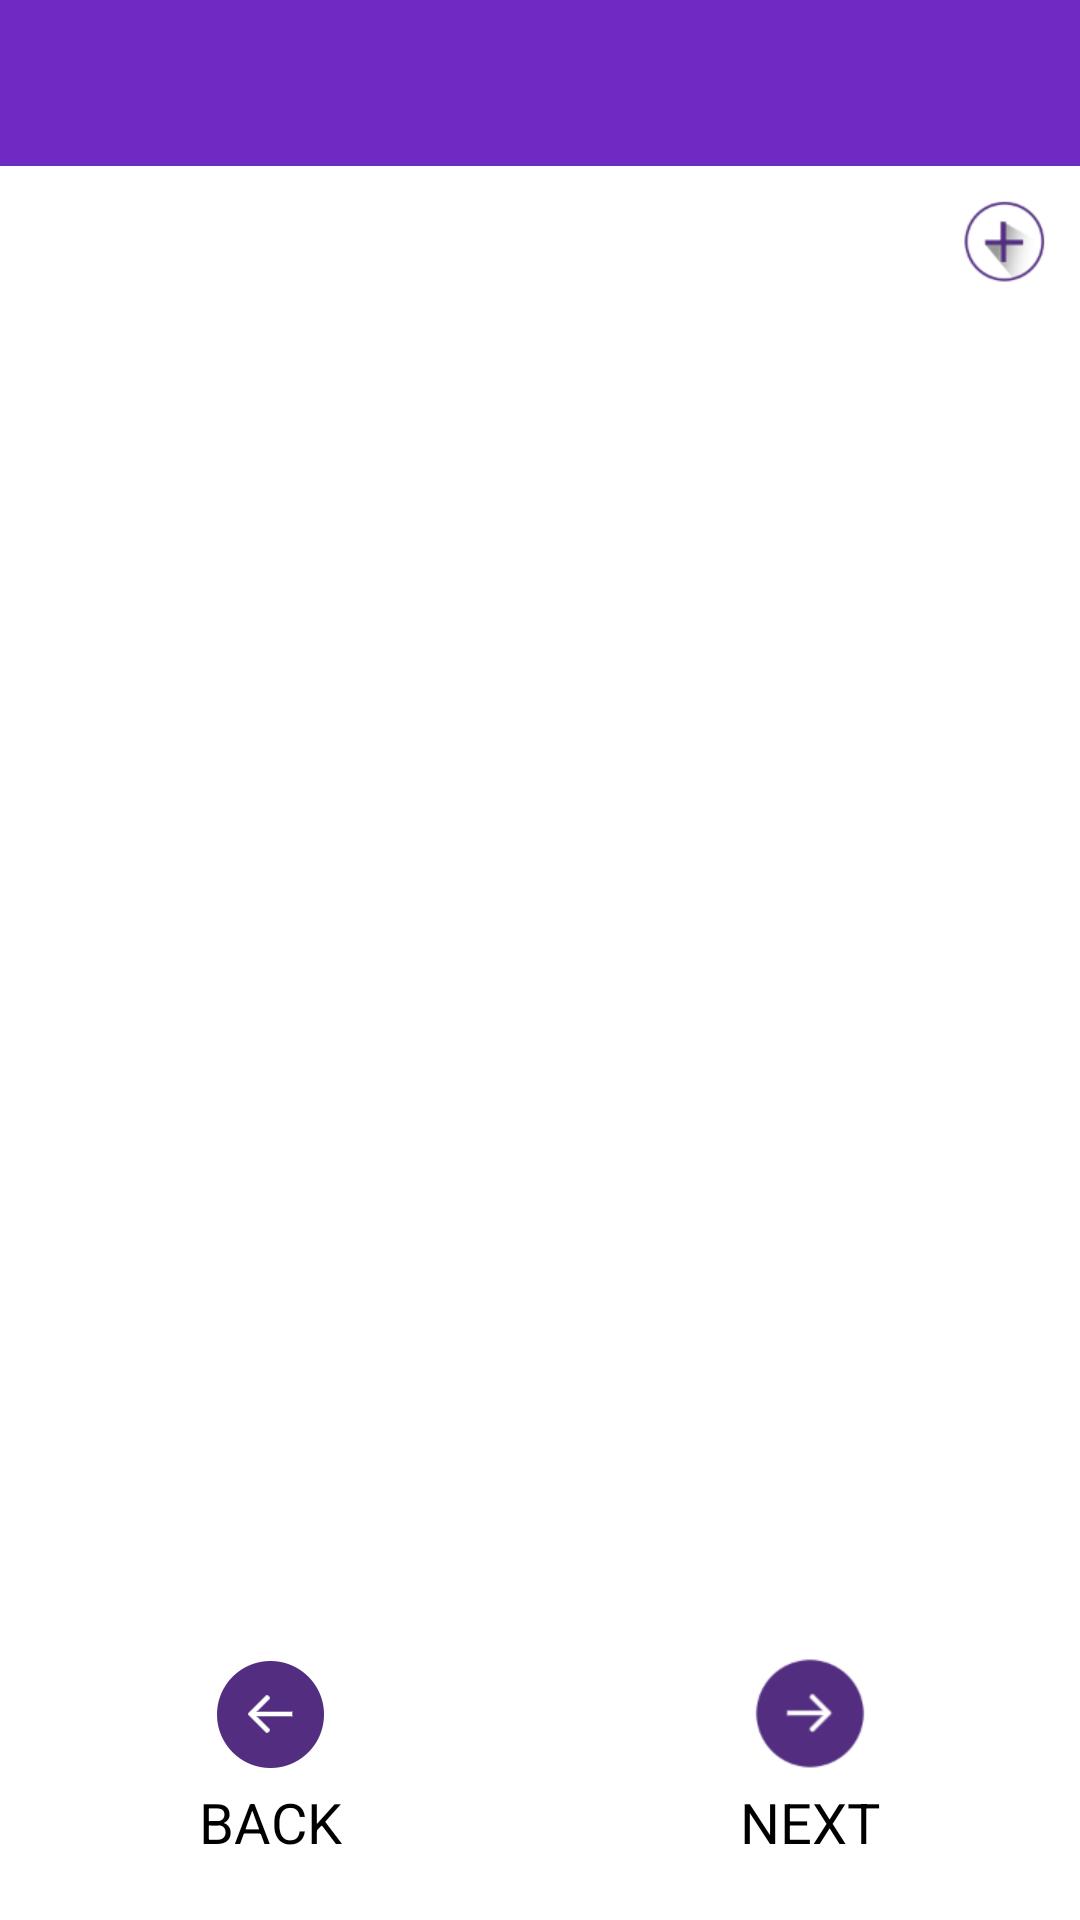

Where icons sit on this 1080×1920 app screen, as box(x1, y1, x2, y2):
add: box(964, 201, 1045, 282)
